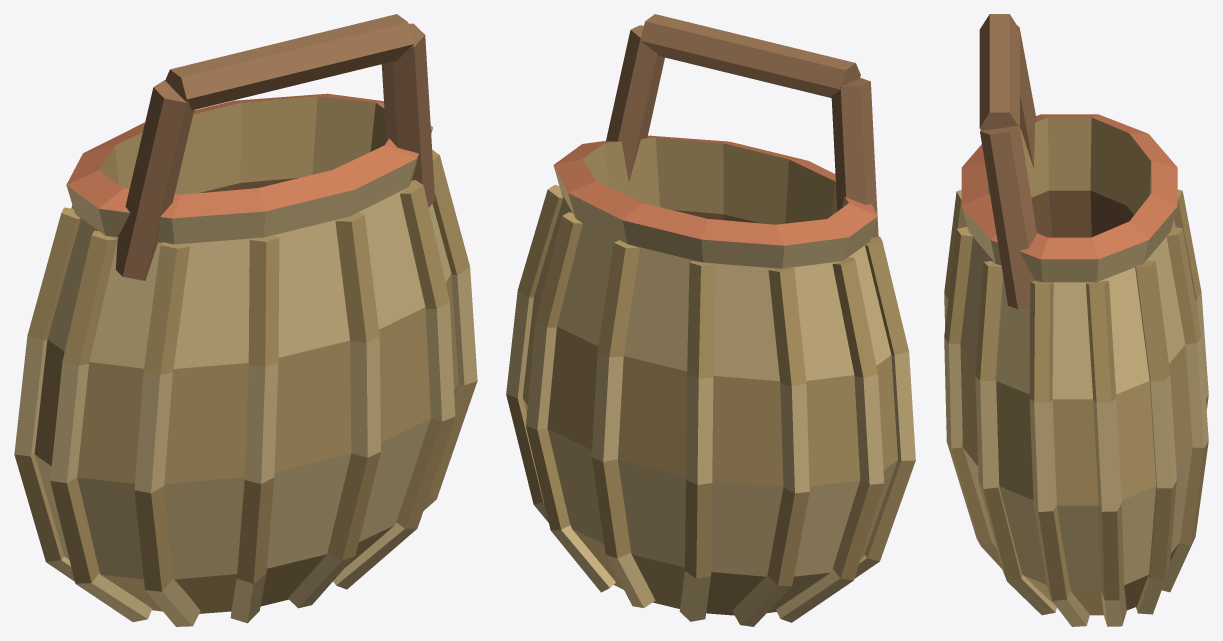
The model's file is reed_basket.glb.
3 renders of one model, left to right at view 1: azimuth 30°, elevation 25°; view 2: azimuth 150°, elevation 25°; view 3: azimuth 270°, elevation 25°, orthographic. The views are drawn at different scales.
Parts seen in each view (by area): view 1: reed_basket; view 2: reed_basket; view 3: reed_basket.
Boxes of the visible parts, x1,y1,x2,y2 form: reed_basket: (14,14,477,626); reed_basket: (506,14,915,626); reed_basket: (944,14,1208,626).
Bounding box in the file's own units: 0.5406 × 0.7102 × 0.3291.
